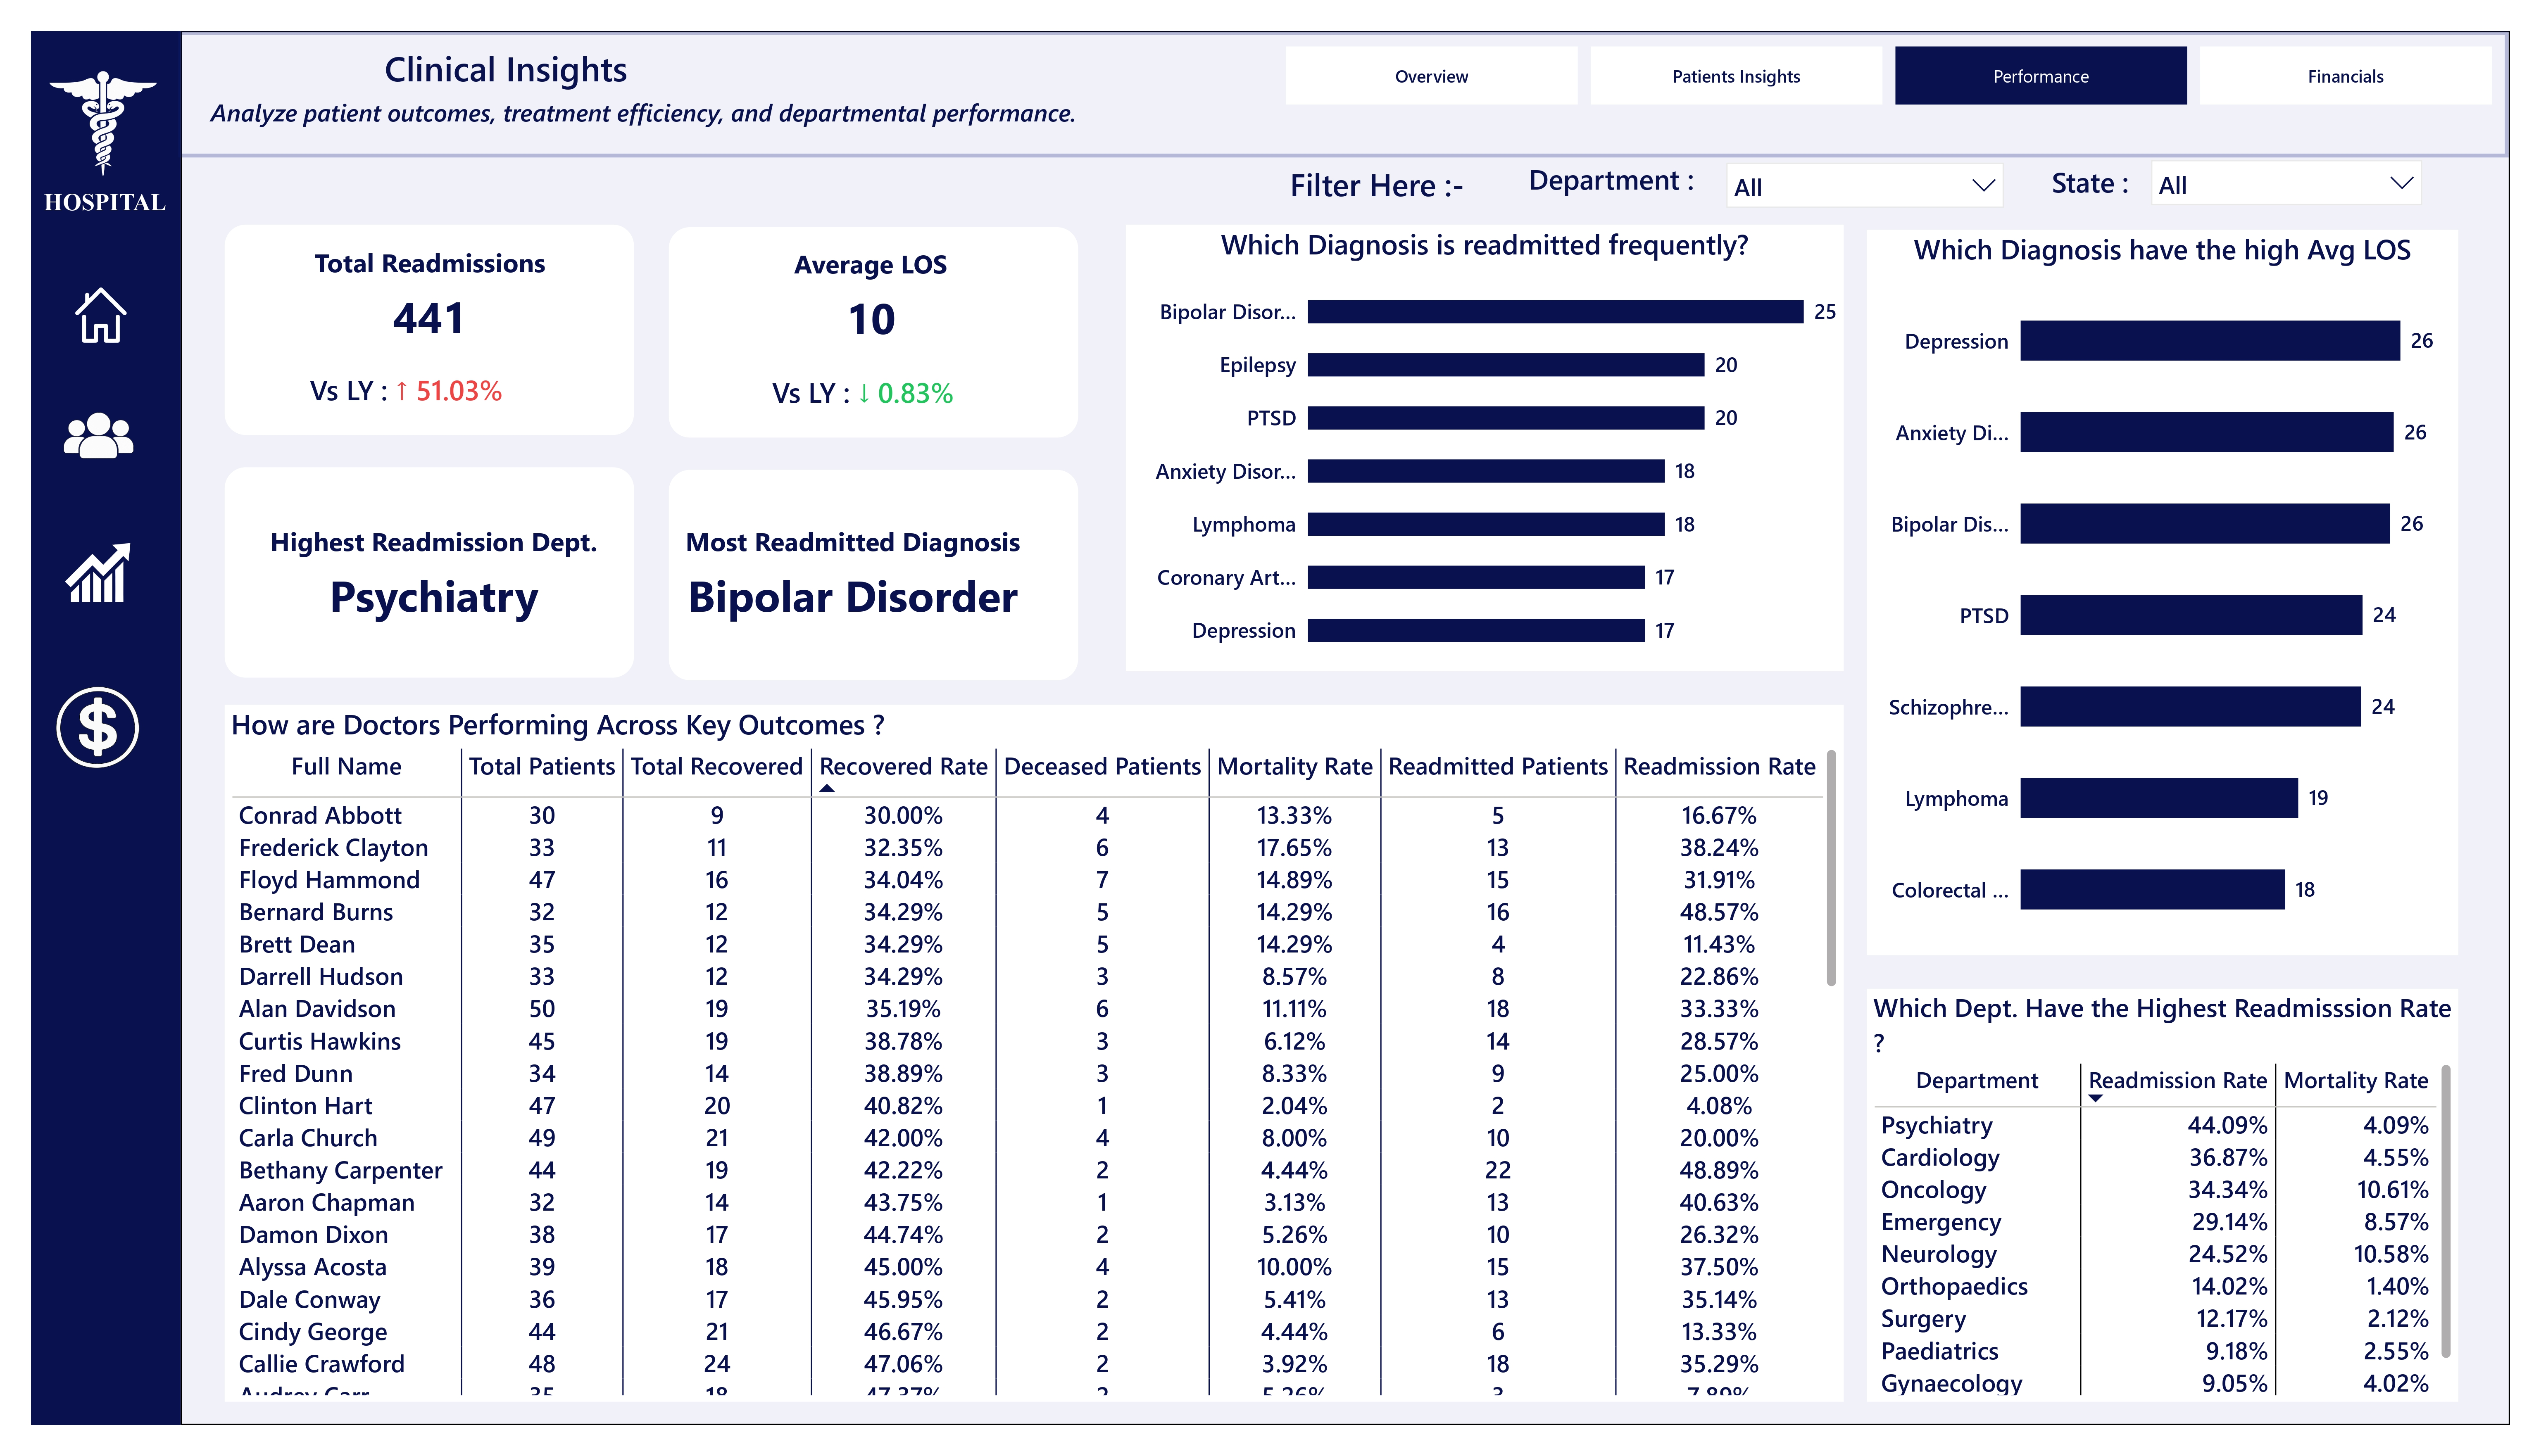

Layout of this report page (visuals, bound fields, positions):
{"tool":"powerbi","page":{"name":"Performance","canvas":[1920,1080],"ordinal":2},"visuals":[{"type":"shape","box":[116,0,1803.8,1080],"z":0},{"type":"pageNavigator","box":[971.7,11.7,936.7,45],"z":1000},{"type":"textbox","box":[970.3,97,209.9,59.7],"z":2000},{"type":"image","box":[12.3,360.9,79.6,116.6],"z":3000},{"type":"image","box":[20.6,256.6,63.1,113.9],"z":4000},{"type":"image","box":[0,134.5,108.4,171.5],"z":5000},{"type":"image","box":[16.5,496.7,71.4,86.4],"z":6000},{"type":"textbox","box":[83.8,4.6,568.5,51.5],"z":7000},{"type":"image","box":[12.3,11,87.8,120.8],"z":8000},{"type":"textbox","box":[0,116.6,115.3,34.3],"z":9000},{"type":"textbox","box":[99.5,45.2,749.2,57.9],"z":10000},{"type":"shape","box":[150.2,338.4,316.7,162.9],"z":11000},{"type":"slicer","fields":{"Values":["Dim_Patients.State"]},"box":[1632.3,90.5,230,70],"z":12000},{"type":"textbox","box":[1560.3,97,114,41.6],"z":13000},{"type":"textbox","box":[1154.9,95.2,148.4,59.7],"z":14000},{"type":"shape","box":[150.2,150.2,316.7,162.9],"z":15000},{"type":"shape","box":[494,152,316.7,162.9],"z":16000},{"type":"shape","box":[494,340,316.7,162.9],"z":17000},{"type":"cardVisual","fields":{"Data":["Fact_Admissions.Average LOS"]},"box":[534,154,233.4,170.1],"z":18000},{"type":"cardVisual","fields":{"Data":["Fact_Admissions.Highest Readmission Department"]},"box":[108.4,351.2,407.2,137.5],"z":19000},{"type":"slicer","fields":{"Values":["Fact_Admissions.Department"]},"box":[1303,92.3,235.3,50.7],"z":20000},{"type":"cardVisual","fields":{"Data":["Fact_Admissions.Total Readmissions"]},"box":[175.6,153.3,266.7,166.7],"z":21000},{"type":"cardVisual","fields":{"Data":["Fact_Admissions.Most Readmitted Diagnosis"]},"box":[442,352,389.1,135.7],"z":22000},{"type":"clusteredBarChart","title":"Which Diagnosis have  the high Avg LOS","fields":{"Category":["Fact_Admissions.Diagnosis"],"Y":["Fact_Admissions.Average LOS"]},"box":[1422,154,458,562],"z":23000},{"type":"tableEx","title":"Which Dept. Have the Highest Readmisssion Rate ?","fields":{"Values":["Dim_Doctors.Department","Fact_Admissions.Readmission Rate","Fact_Admissions.Mortality Rate"]},"box":[1422.4,742,457.8,320.3],"z":24000},{"type":"tableEx","title":"How are Doctors Performing Across Key Outcomes ?","fields":{"Values":["Dim_Doctors.Full Name","Fact_Admissions.Total Patients","Fact_Admissions.Total Recovered","Fact_Admissions.Recovered Rate","Fact_Admissions.Deceased   Patients","Fact_Admissions.Mortality Rate","Fact_Admissions.Readmitted Patients","Fact_Admissions.Readmission Rate"]},"box":[150,522,1254,540],"z":25000},{"type":"barChart","title":"Which Diagnosis is readmitted frequently?","fields":{"Category":["Fact_Admissions.Diagnosis"],"Y":["Fact_Admissions.Readmitted Patients"]},"box":[848,150,556,346],"z":26000},{"type":"shape","box":[114,0,1805,97.5],"z":27000}]}

Visuals, with their boxes on the page's 1920x1080 design canvas (x1, y1, x2, y2). These are canvas units, not pixel positions in the 2541x1456 screenshot, which may show the page scaled, cropped or inside an application window:
shape: bbox=(116, 0, 1920, 1080)
pageNavigator: bbox=(972, 12, 1908, 57)
textbox: bbox=(970, 97, 1180, 157)
image: bbox=(12, 361, 92, 478)
image: bbox=(21, 257, 84, 370)
image: bbox=(0, 134, 108, 306)
image: bbox=(16, 497, 88, 583)
textbox: bbox=(84, 5, 652, 56)
image: bbox=(12, 11, 100, 132)
textbox: bbox=(0, 117, 115, 151)
textbox: bbox=(100, 45, 849, 103)
shape: bbox=(150, 338, 467, 501)
slicer - Dim_Patients.State: bbox=(1632, 90, 1862, 160)
textbox: bbox=(1560, 97, 1674, 139)
textbox: bbox=(1155, 95, 1303, 155)
shape: bbox=(150, 150, 467, 313)
shape: bbox=(494, 152, 811, 315)
shape: bbox=(494, 340, 811, 503)
cardVisual - Fact_Admissions.Average LOS: bbox=(534, 154, 767, 324)
cardVisual - Fact_Admissions.Highest Readmission Department: bbox=(108, 351, 516, 489)
slicer - Fact_Admissions.Department: bbox=(1303, 92, 1538, 143)
cardVisual - Fact_Admissions.Total Readmissions: bbox=(176, 153, 442, 320)
cardVisual - Fact_Admissions.Most Readmitted Diagnosis: bbox=(442, 352, 831, 488)
"Which Diagnosis have  the high Avg LOS" clusteredBarChart: bbox=(1422, 154, 1880, 716)
"Which Dept. Have the Highest Readmisssion Rate ?" tableEx: bbox=(1422, 742, 1880, 1062)
"How are Doctors Performing Across Key Outcomes ?" tableEx: bbox=(150, 522, 1404, 1062)
"Which Diagnosis is readmitted frequently?" barChart: bbox=(848, 150, 1404, 496)
shape: bbox=(114, 0, 1919, 98)
